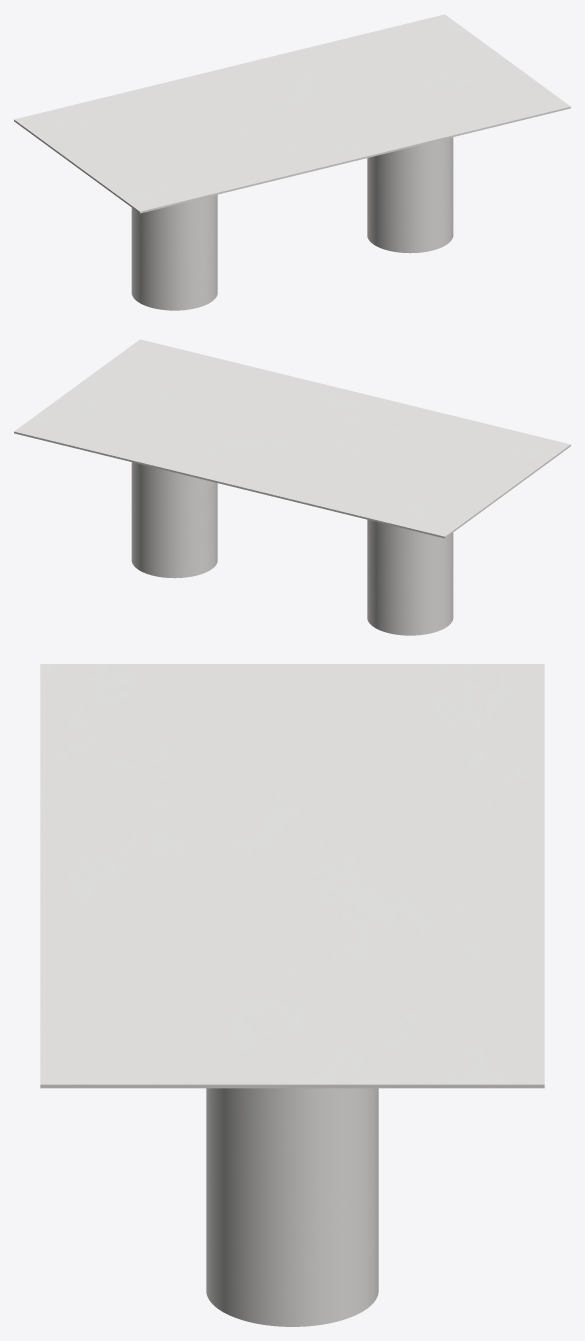
File: purewhite_recta_facet_stream.glb
3 renders of one model, top to bottom at view 1: azimuth 30°, elevation 25°; view 2: azimuth 150°, elevation 25°; view 3: azimuth 270°, elevation 25°, orthographic. The views are drawn at different scales.
Parts seen in each view (by area): view 1: facet_recta, stream; view 2: facet_recta, stream; view 3: facet_recta, stream.
Boxes of the visible parts, x1=… form: facet_recta: x1=14, y1=14, x2=570, y2=213; stream: x1=131, y1=137, x2=453, y2=310; facet_recta: x1=14, y1=339, x2=570, y2=538; stream: x1=131, y1=462, x2=453, y2=635; facet_recta: x1=40, y1=664, x2=544, y2=1088; stream: x1=206, y1=1088, x2=378, y2=1326.
Bounding box in the file's own units: 7.5 × 2.51 × 3.8.
1 material, 1 textured.
